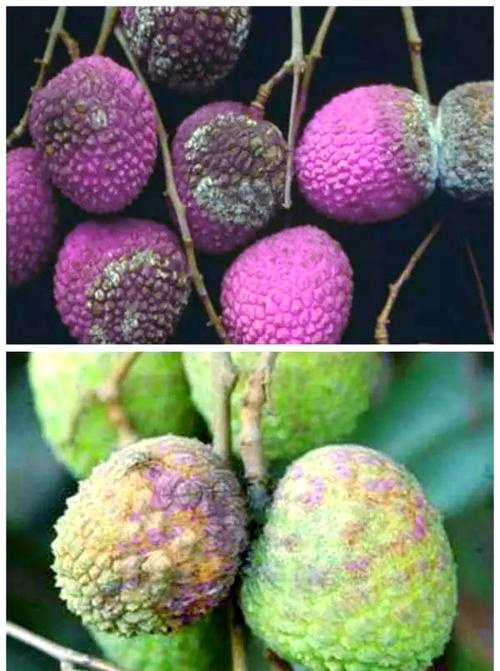Frost_Blight: (128, 434, 247, 627), (388, 52, 494, 221), (200, 123, 286, 249), (140, 0, 252, 83), (89, 255, 193, 333)
